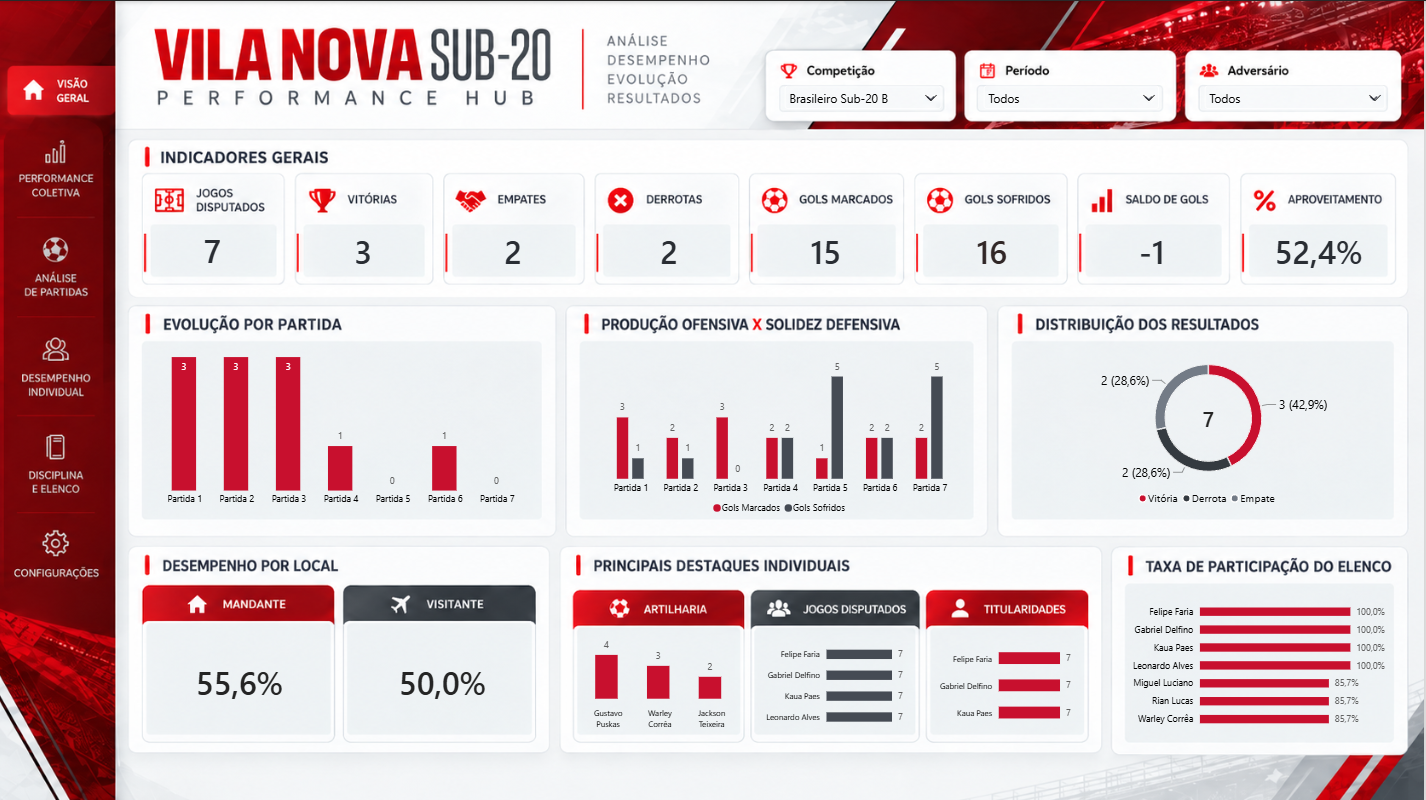

What the dashboard file says about the page in this screenshot:
{"tool":"powerbi","page":{"name":"01 - Visão Geral","canvas":[1920,1080],"ordinal":0},"visuals":[{"type":"cardVisual","fields":{"Data":["Medidas.Jogos Disputados"]},"box":[202.6,297.8,170.8,77.1],"z":0},{"type":"cardVisual","fields":{"Data":["Medidas.Vitórias"]},"box":[405.2,297.8,170.8,77.1],"z":1000},{"type":"cardVisual","fields":{"Data":["Medidas.Empates"]},"box":[607.7,297.8,170.8,77.1],"z":2000},{"type":"cardVisual","fields":{"Data":["Medidas.Derrotas"]},"box":[817.9,297.8,170.8,77.1],"z":3000},{"type":"cardVisual","fields":{"Data":["Medidas.Gols Marcados"]},"box":[1020.5,297.8,186,77.1],"z":4000},{"type":"cardVisual","fields":{"Data":["Medidas.Gols Sofridos"]},"box":[1244.2,297.8,186,77.1],"z":5000},{"type":"cardVisual","fields":{"Data":["Medidas.Saldo de Gols"]},"box":[1460.4,297.8,186,77.1],"z":6000},{"type":"cardVisual","fields":{"Data":["Medidas.Aproveitamento %"]},"box":[1684.2,297.8,186,77.1],"z":7000},{"type":"clusteredColumnChart","fields":{"Category":["dim_partidas.Nome da Partida"],"Y":["Medidas.Pontos por Partida"]},"box":[188.5,456.5,544,243.7],"z":8000},{"type":"clusteredColumnChart","fields":{"Category":["dim_partidas.Nome da Partida"],"Y":["Medidas.Gols Marcados","Medidas.Gols Sofridos"]},"box":[789.1,455.2,526.5,257.2],"z":9000},{"type":"donutChart","fields":{"Category":["dim_partidas.resultado"],"Y":["Medidas.Jogos Disputados"]},"box":[1374.7,455.7,507.3,244.6],"z":10000},{"type":"card","fields":{"Values":["Medidas.Aproveitamento Mandante"]},"box":[188.9,839.3,271,159.1],"z":11000},{"type":"card","fields":{"Values":["Medidas.Aproveitamento Visitante"]},"box":[461.9,839,271,159.1],"z":12000},{"type":"clusteredColumnChart","fields":{"Category":["dim_jogadores.Nome Curto"],"Y":["Medidas.Gols por Jogador"]},"box":[742,834,279,166],"z":13000},{"type":"clusteredBarChart","fields":{"Category":["dim_jogadores.Nome Curto"],"Y":["Medidas.Jogos Disputados por Jogador"]},"box":[1011.3,840.3,222.2,158.9],"z":14000},{"type":"clusteredBarChart","fields":{"Category":["dim_jogadores.Nome Curto"],"Y":["Medidas.Jogos como Titular"]},"box":[1244.3,840.3,215.5,158.9],"z":15000},{"type":"clusteredBarChart","fields":{"Category":["dim_jogadores.Nome Curto"],"Y":["Medidas.Taxa de Participação"]},"box":[1504,785.7,378.6,214],"z":16000},{"type":"slicer","fields":{"Values":["fato_partidas.competicao"]},"box":[1053.1,109.1,220.8,36.4],"z":17000},{"type":"slicer","fields":{"Values":["dim_calendario.Data"]},"box":[1321,109.1,246.4,36.4],"z":18000},{"type":"slicer","fields":{"Values":["dim_partidas.Adversário"]},"box":[1618.7,109.1,253.2,36.4],"z":19000},{"type":"actionButton","box":[18.9,187.2,117.2,90.2],"z":20000},{"type":"actionButton","box":[24.2,317.8,107.7,56.6],"z":21000},{"type":"actionButton","box":[28.3,444.4,103.7,83.5],"z":22000},{"type":"actionButton","box":[28.3,588.5,103.7,70],"z":23000}]}

Visuals, with their boxes on the page's 1920x1080 design canvas (x1, y1, x2, y2). These are canvas units, not pixel positions in the 1426x800 screenshot, which may show the page scaled, cropped or inside an application window:
cardVisual - Medidas.Jogos Disputados: rect(203, 298, 373, 375)
cardVisual - Medidas.Vitórias: rect(405, 298, 576, 375)
cardVisual - Medidas.Empates: rect(608, 298, 778, 375)
cardVisual - Medidas.Derrotas: rect(818, 298, 989, 375)
cardVisual - Medidas.Gols Marcados: rect(1020, 298, 1206, 375)
cardVisual - Medidas.Gols Sofridos: rect(1244, 298, 1430, 375)
cardVisual - Medidas.Saldo de Gols: rect(1460, 298, 1646, 375)
cardVisual - Medidas.Aproveitamento %: rect(1684, 298, 1870, 375)
clusteredColumnChart - dim_partidas.Nome da Partida x Medidas.Pontos por Partida: rect(188, 456, 732, 700)
clusteredColumnChart - dim_partidas.Nome da Partida x Medidas.Gols Marcados: rect(789, 455, 1316, 712)
donutChart - dim_partidas.resultado x Medidas.Jogos Disputados: rect(1375, 456, 1882, 700)
card - Medidas.Aproveitamento Mandante: rect(189, 839, 460, 998)
card - Medidas.Aproveitamento Visitante: rect(462, 839, 733, 998)
clusteredColumnChart - dim_jogadores.Nome Curto x Medidas.Gols por Jogador: rect(742, 834, 1021, 1000)
clusteredBarChart - dim_jogadores.Nome Curto x Medidas.Jogos Disputados por Jogador: rect(1011, 840, 1234, 999)
clusteredBarChart - dim_jogadores.Nome Curto x Medidas.Jogos como Titular: rect(1244, 840, 1460, 999)
clusteredBarChart - dim_jogadores.Nome Curto x Medidas.Taxa de Participação: rect(1504, 786, 1883, 1000)
slicer - fato_partidas.competicao: rect(1053, 109, 1274, 146)
slicer - dim_calendario.Data: rect(1321, 109, 1567, 146)
slicer - dim_partidas.Adversário: rect(1619, 109, 1872, 146)
actionButton: rect(19, 187, 136, 277)
actionButton: rect(24, 318, 132, 374)
actionButton: rect(28, 444, 132, 528)
actionButton: rect(28, 588, 132, 658)
